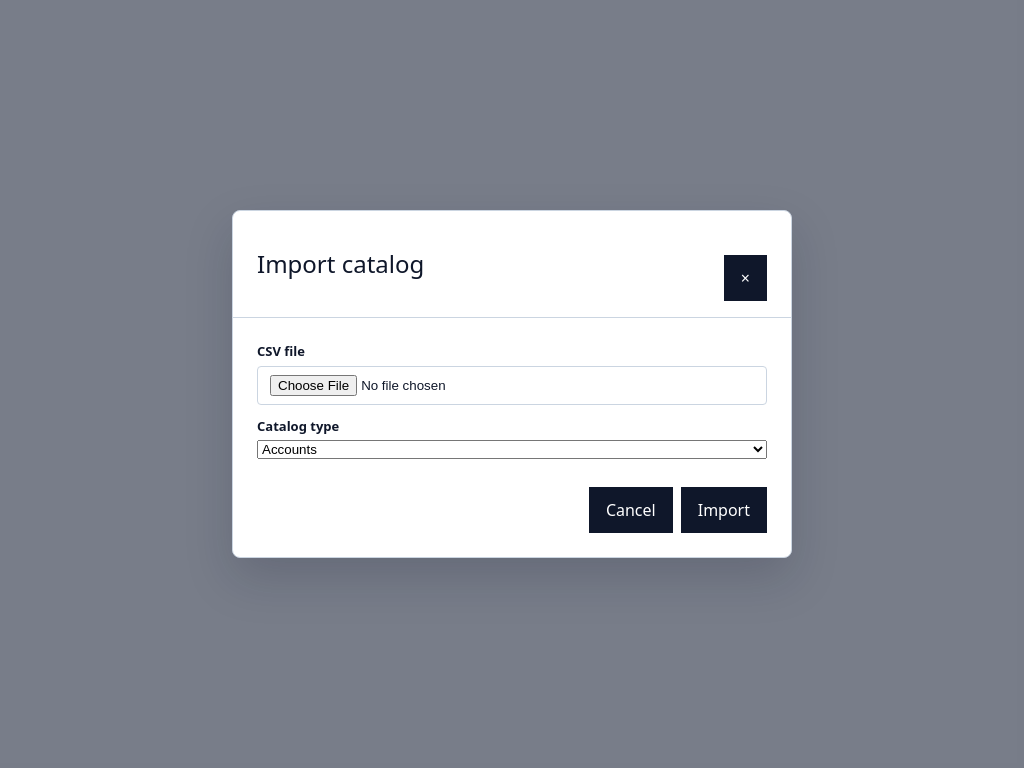
Test: ImportModal › requires a CSV file before submitting
Click the button "Import": [724, 510] box [681,487,767,533]
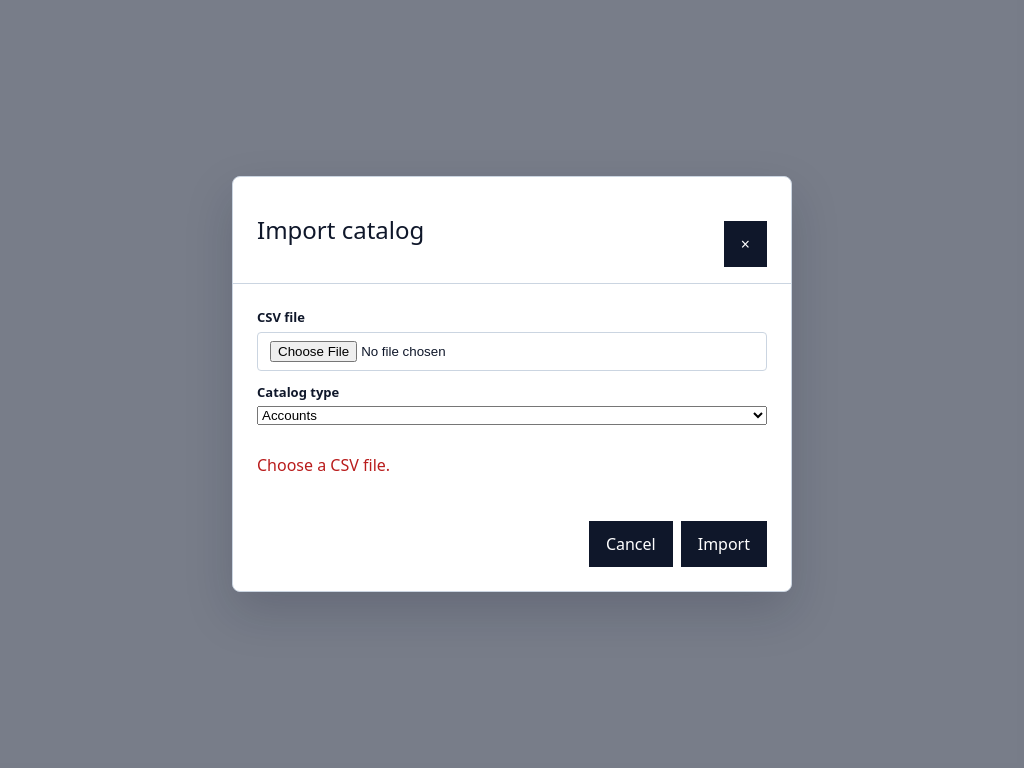
Result: the message reads "Choose a CSV file." at [257,454,390,476]
